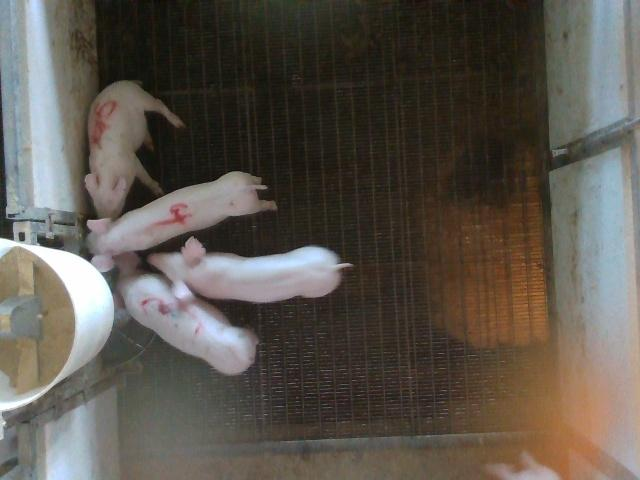pig-3: (118, 274, 259, 374)
pig-4: (88, 171, 276, 271)
pig-5: (85, 80, 184, 219)
